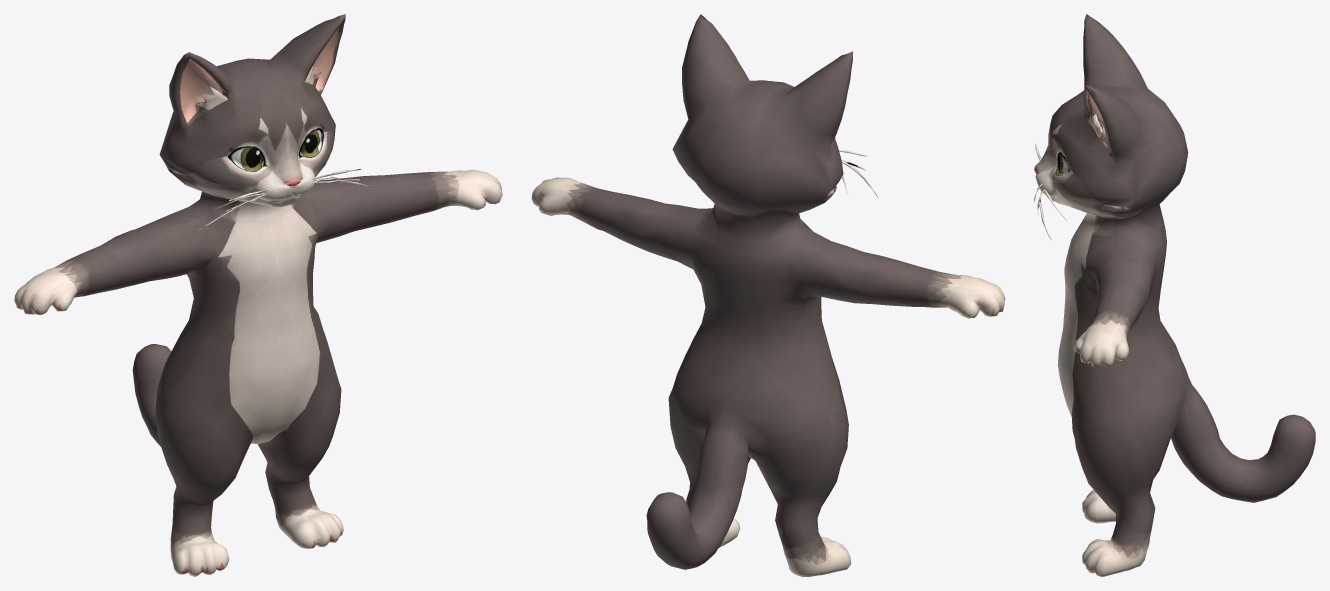
The model's file is cat-tpose.fbx.
The picture shows the model from 3 angles, left to right: view 1: azimuth 30°, elevation 25°; view 2: azimuth 150°, elevation 25°; view 3: azimuth 270°, elevation 25°; orthographic projection. The views are drawn at different scales.
Visible parts, largest first — view 1: output_unwrapped; view 2: output_unwrapped; view 3: output_unwrapped.
Part boxes in pixels (bbox=[...]): output_unwrapped: bbox=[14, 14, 502, 576]; output_unwrapped: bbox=[531, 14, 1005, 576]; output_unwrapped: bbox=[1034, 14, 1315, 576].
Bounding box in the file's own units: 0.9512 × 0.998 × 0.5176.
Materials: 1 (1 with a texture image).
